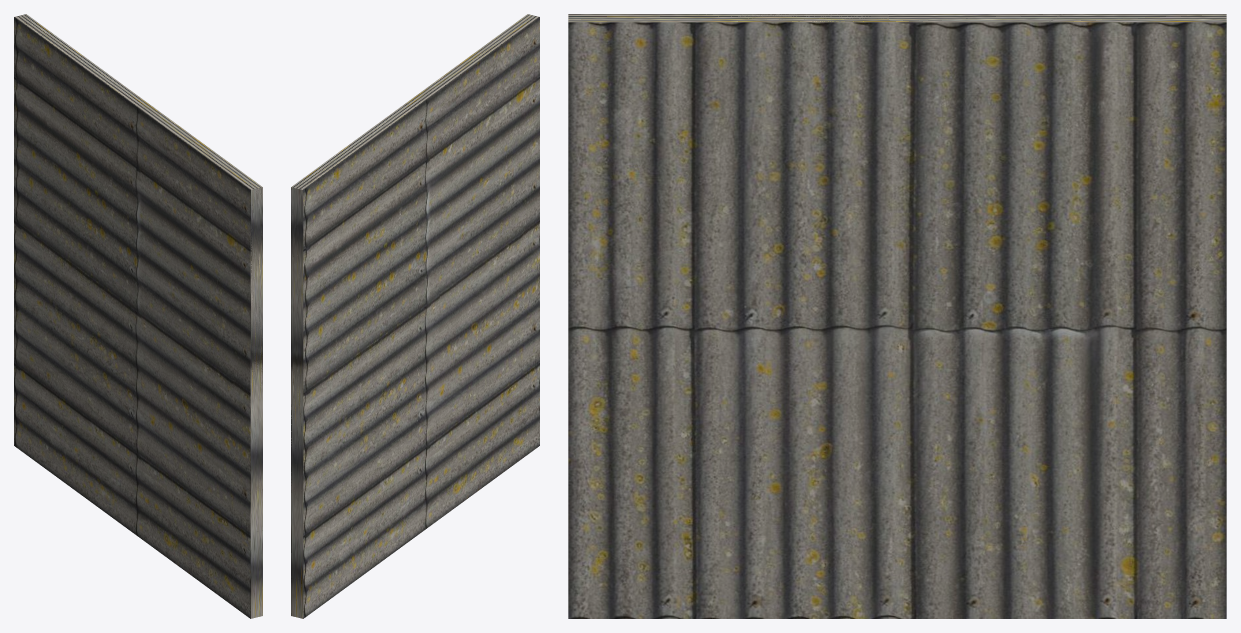
Rendered from broken.fbx.
The picture shows the model from 3 angles, left to right: view 1: azimuth 30°, elevation 25°; view 2: azimuth 150°, elevation 25°; view 3: azimuth 270°, elevation 25°; orthographic projection. The views are drawn at different scales.
Visible parts, largest first — view 1: Cube, Cube_cell.023, Cube_cell.006, Cube_cell.015, Cube_cell, Cube_cell.008, Cube_cell.007, Cube_cell.022, Cube_cell.041, Cube_cell.010, Cube_cell.040, Cube_cell.020 (+21 smaller); view 2: Cube, Cube_cell.006, Cube_cell.020, Cube_cell.015, Cube_cell.040, Cube_cell.027, Cube_cell, Cube_cell.023, Cube_cell.026, Cube_cell.025, Cube_cell.014, Cube_cell.012 (+21 smaller); view 3: Cube, Cube_cell.027, Cube_cell.006, Cube_cell.041, Cube_cell.026, Cube_cell.015, Cube_cell.014, Cube_cell, Cube_cell.017, Cube_cell.022, Cube_cell.001, Cube_cell.003 (+22 smaller).
Boxes of the visible parts, box(x1,y1,x2,y2) form: Cube: box(14, 18, 262, 618); Cube_cell.023: box(164, 282, 233, 436); Cube_cell.006: box(75, 152, 146, 309); Cube_cell.015: box(162, 410, 229, 541); Cube_cell: box(21, 174, 90, 295); Cube_cell.008: box(34, 399, 107, 485); Cube_cell.007: box(214, 379, 262, 492); Cube_cell.022: box(26, 312, 94, 403); Cube_cell.041: box(168, 173, 213, 283); Cube_cell.010: box(213, 216, 262, 304); Cube_cell.040: box(14, 40, 42, 200); Cube_cell.020: box(100, 325, 163, 451); Cube: box(291, 14, 539, 609); Cube_cell.006: box(364, 195, 439, 336); Cube_cell.020: box(389, 298, 453, 463); Cube_cell.015: box(441, 318, 518, 451); Cube_cell.040: box(291, 203, 331, 369); Cube_cell.027: box(328, 174, 391, 303); Cube_cell: box(310, 277, 380, 394); Cube_cell.023: box(445, 201, 522, 339); Cube_cell.026: box(412, 425, 470, 533); Cube_cell.025: box(291, 365, 329, 492); Cube_cell.014: box(372, 323, 419, 454); Cube_cell.012: box(355, 99, 424, 188); Cube: box(568, 14, 1226, 618); Cube_cell.027: box(968, 58, 1170, 219); Cube_cell.006: box(856, 117, 1053, 326); Cube_cell.041: box(674, 51, 817, 214); Cube_cell.026: box(760, 485, 918, 618); Cube_cell.015: box(628, 404, 849, 558); Cube_cell.014: box(876, 307, 1035, 489); Cube_cell: box(1013, 213, 1208, 332); Cube_cell.017: box(734, 14, 910, 131); Cube_cell.022: box(1002, 408, 1192, 531); Cube_cell.001: box(753, 148, 929, 323); Cube_cell.003: box(916, 494, 1091, 618).
Bounding box in the file's own units: 6 × 200 × 200.
1 material, 1 textured.
